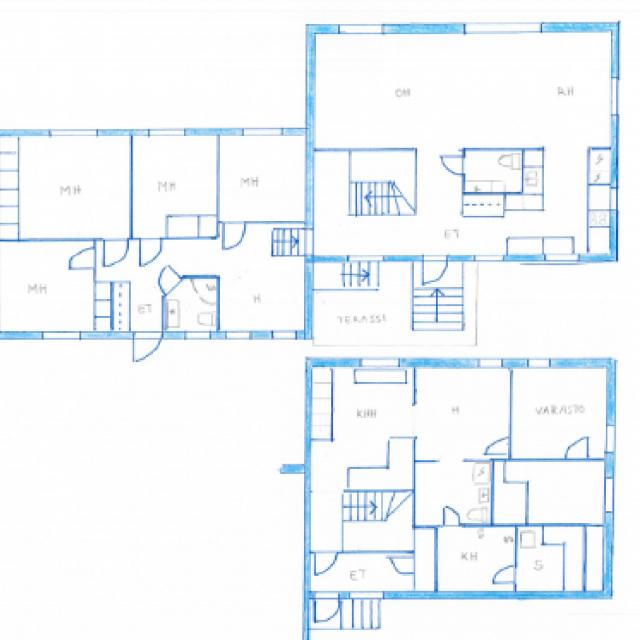door: (133, 329, 162, 367), (149, 265, 183, 297), (314, 588, 339, 624), (424, 253, 449, 287), (564, 432, 590, 463), (313, 548, 338, 577), (105, 236, 127, 262), (224, 221, 246, 247), (140, 236, 161, 262), (489, 434, 515, 454), (443, 504, 462, 529), (396, 556, 419, 574), (496, 566, 519, 584), (74, 250, 95, 268), (447, 156, 468, 174)
